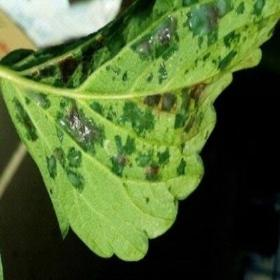Angular Leafspot: (0, 0, 279, 260)
